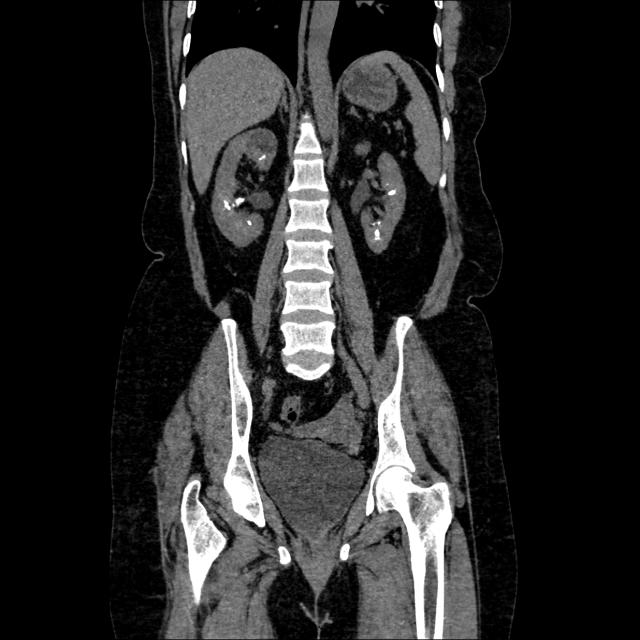kidney: (209, 123, 281, 255), (350, 136, 410, 260)
stone: (225, 186, 246, 213), (256, 144, 271, 168), (371, 219, 384, 246), (384, 182, 398, 199), (245, 215, 255, 228)
